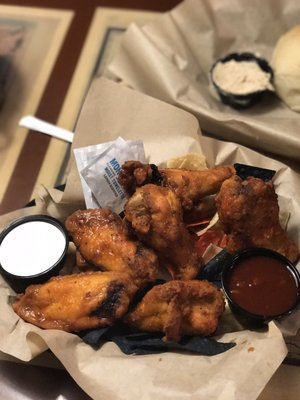curry: (1, 2, 300, 400)
